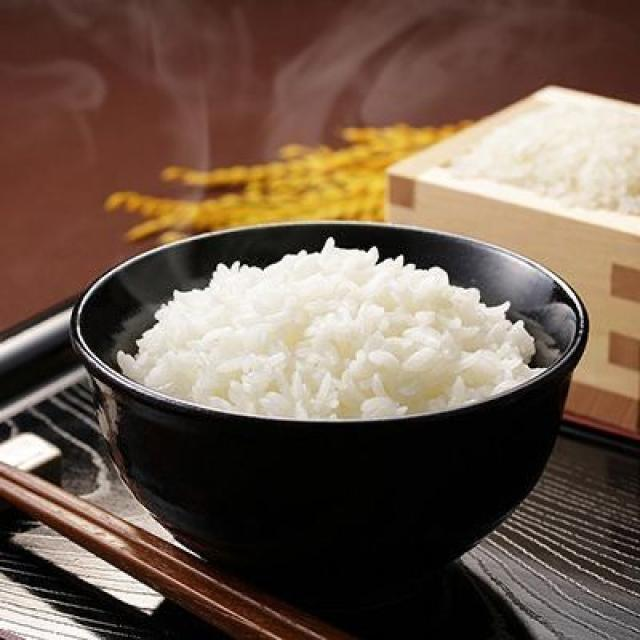nasi_putih: (119, 246, 556, 444)
